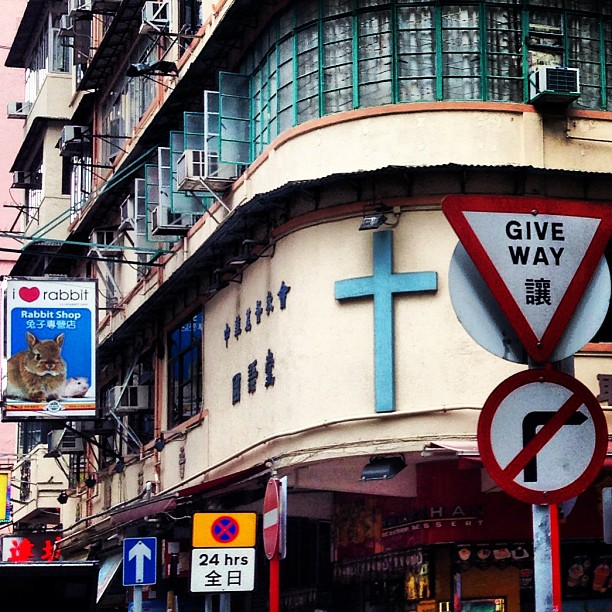No_right_turn: (475, 371, 608, 504)
